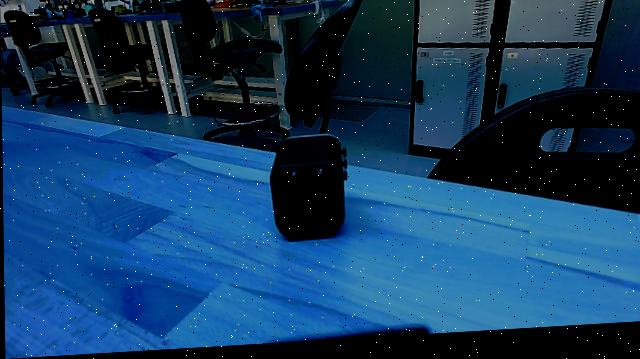adapter: (264, 133, 345, 253)
